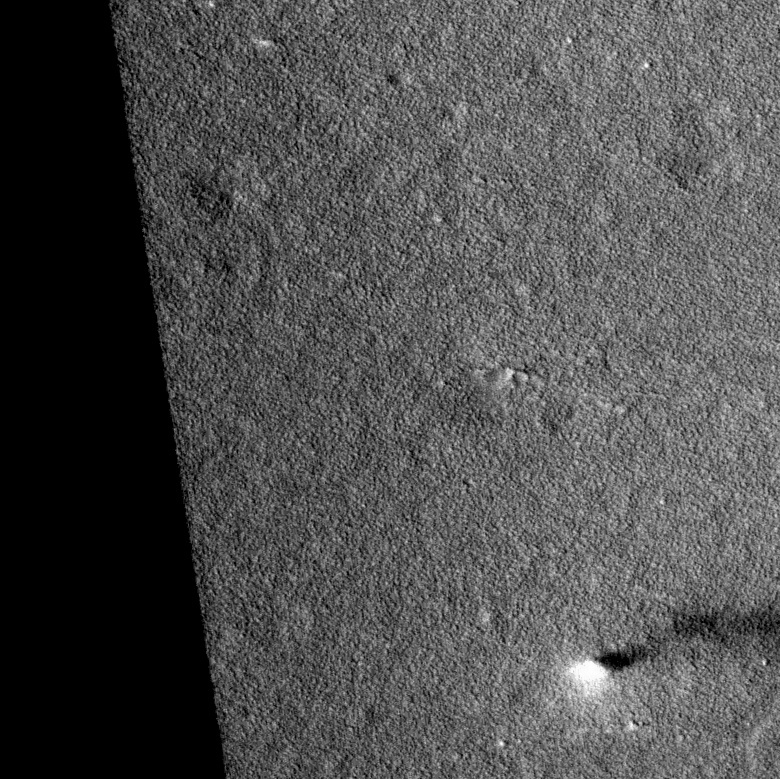dust_devil: (564, 601, 780, 702)
